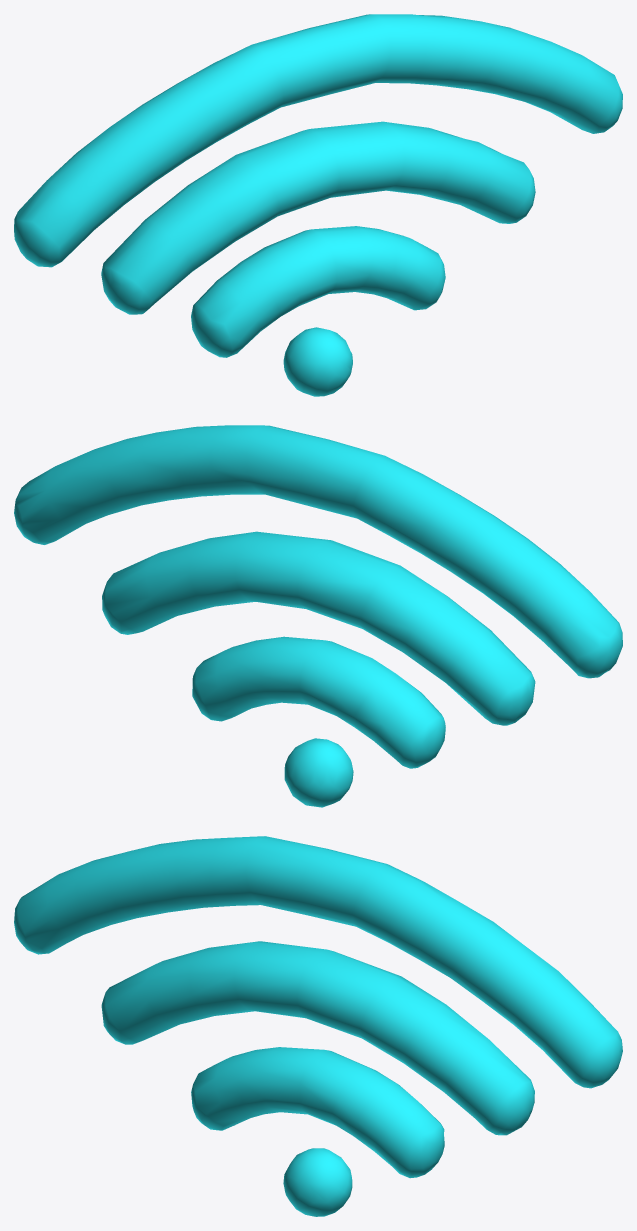
The model's file is Wifi.fbx.
3 renders of one model, top to bottom at view 1: azimuth 30°, elevation 25°; view 2: azimuth 150°, elevation 25°; view 3: azimuth 330°, elevation 25°, orthographic.
Parts seen in each view (by area): view 1: Sphere; view 2: Sphere; view 3: Sphere.
Part boxes in pixels (bbox=[...]): Sphere: bbox=[14, 14, 622, 396]; Sphere: bbox=[14, 425, 622, 807]; Sphere: bbox=[14, 836, 622, 1216].
Bounding box in the file's own units: 1978 × 1146 × 244.
